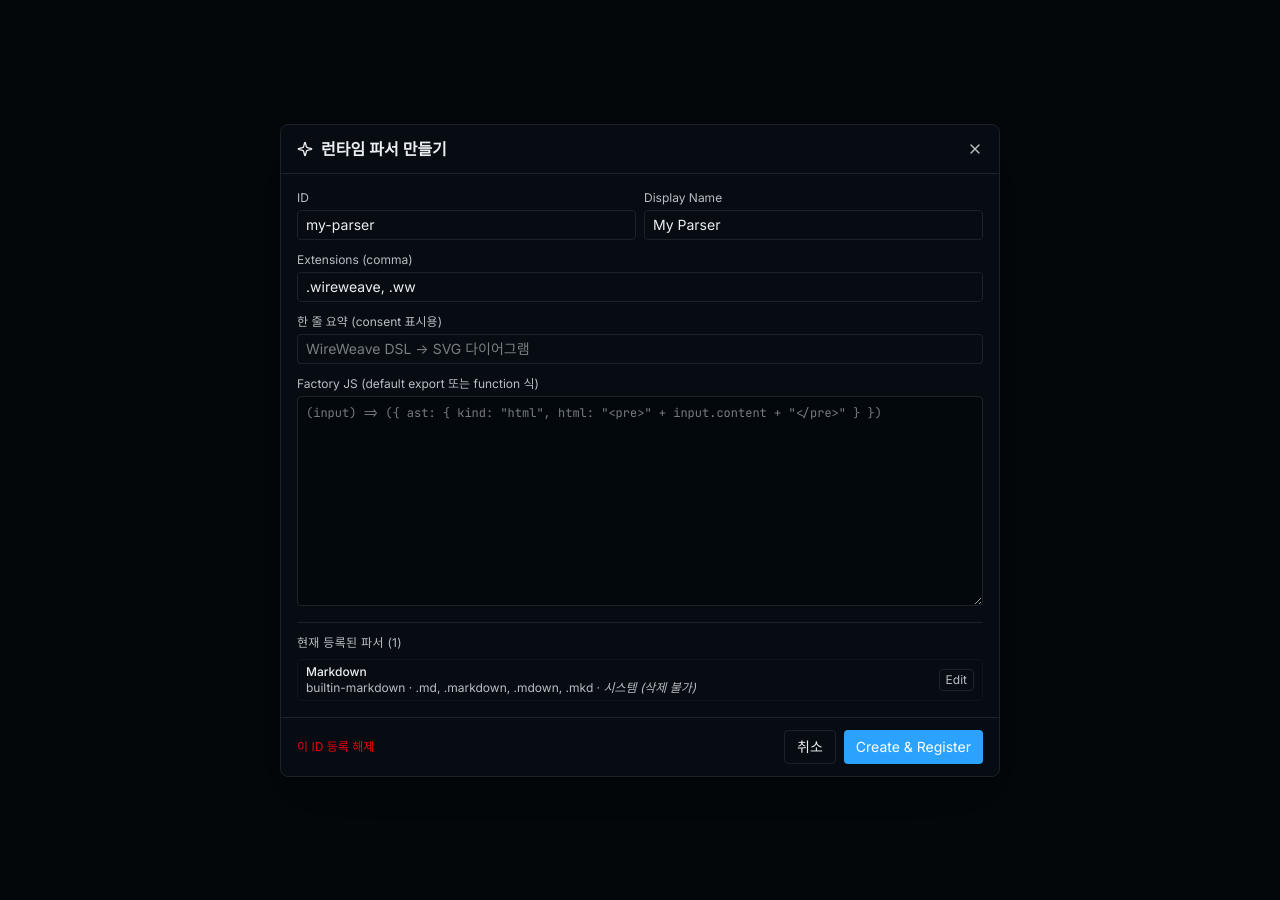
CreateParserDialog › rejects empty id or empty extensions
Clear the field with test id "parser-id" at x=466, y=224, box [297, 210, 636, 240]
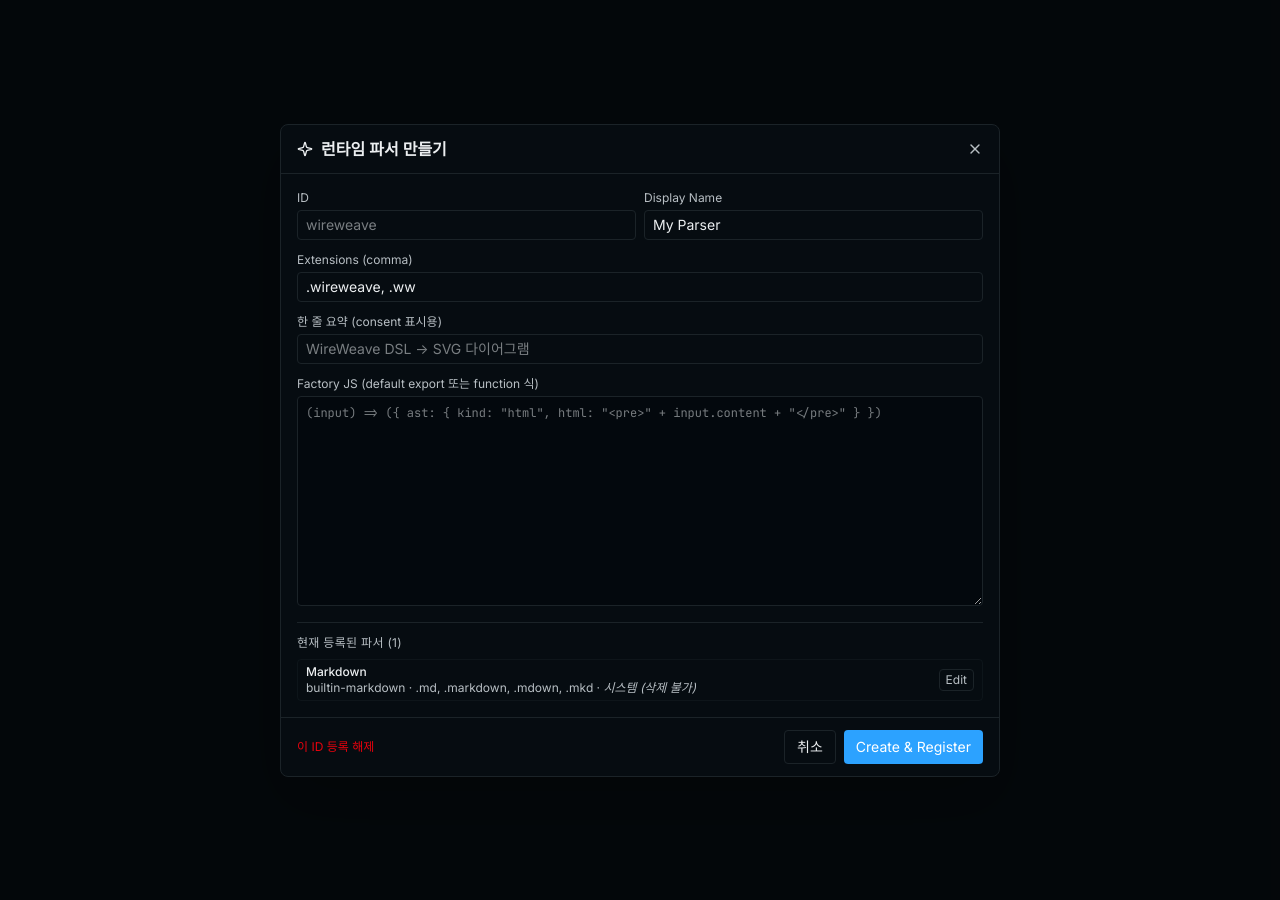
Click the button with test id "parser-create".
click(913, 746)  # box [844, 730, 983, 764]
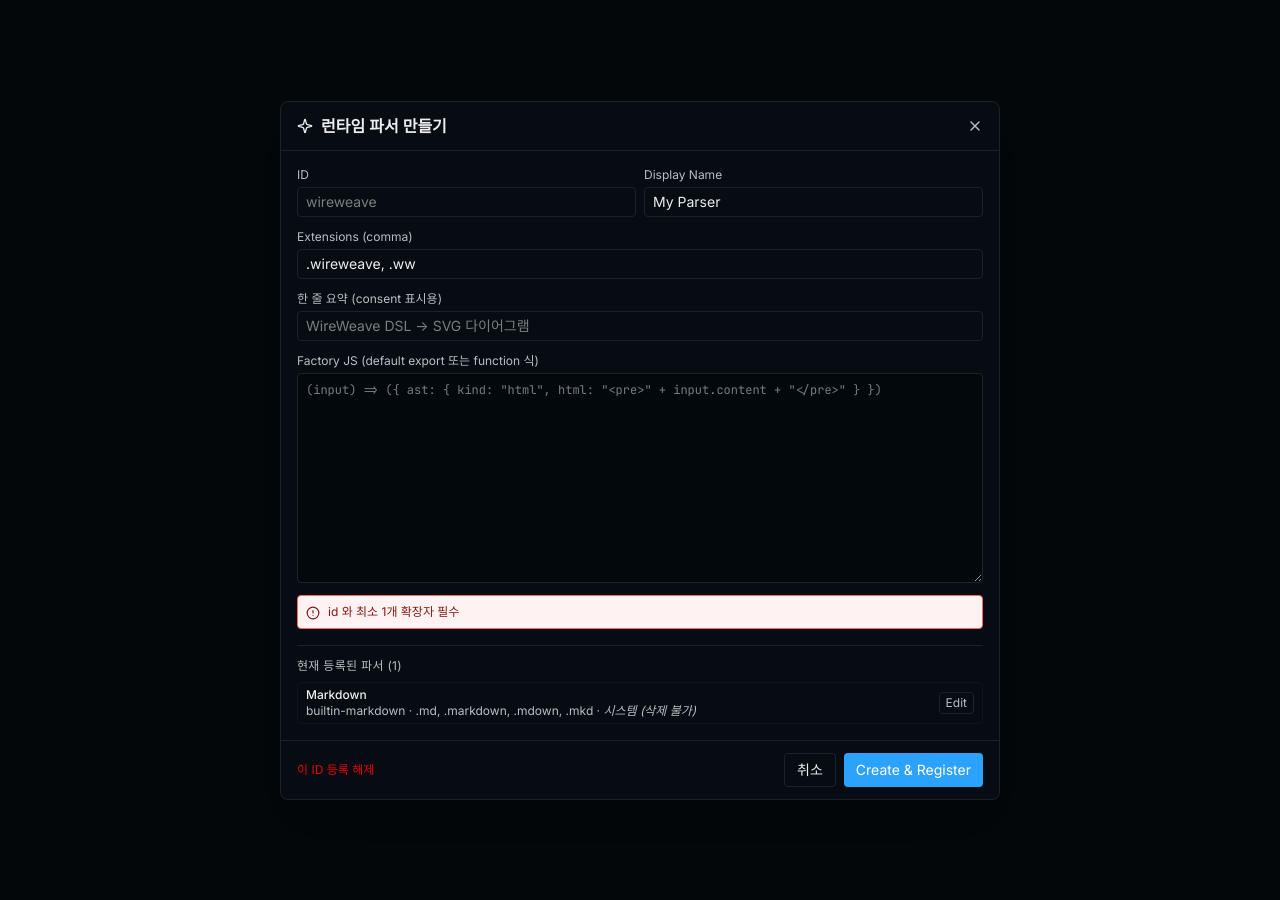
Now the element with test id "parser-result-error" shows "필수", box [328, 604, 459, 618]
